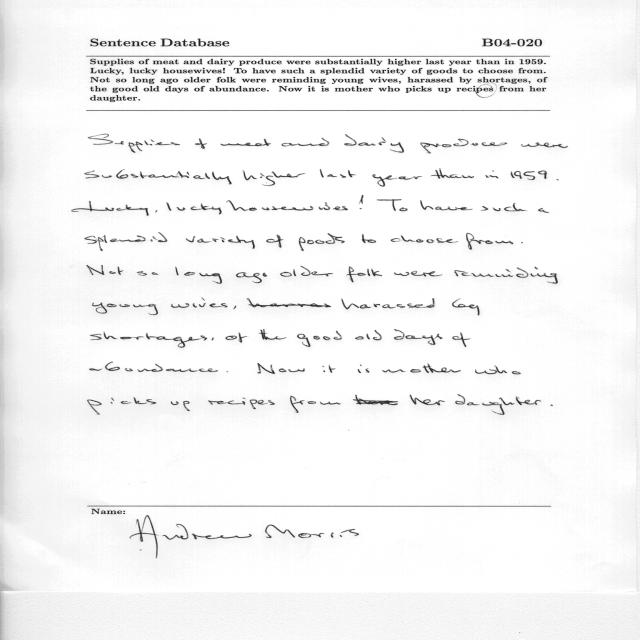word: (85, 170, 232, 185), (91, 332, 208, 348), (456, 394, 542, 415), (454, 267, 558, 284), (88, 134, 180, 153), (85, 233, 167, 251), (226, 200, 348, 211), (89, 362, 218, 372), (88, 397, 156, 415), (421, 139, 508, 153), (72, 201, 149, 216), (344, 134, 404, 153), (341, 299, 435, 310), (243, 170, 305, 186), (186, 236, 255, 249), (290, 396, 341, 413), (299, 233, 345, 251), (466, 233, 513, 250), (175, 267, 222, 284), (92, 303, 158, 315), (382, 363, 461, 373), (394, 329, 442, 345), (247, 298, 331, 307), (208, 398, 275, 409), (297, 331, 342, 347), (166, 203, 222, 215), (373, 174, 422, 187), (280, 266, 333, 277), (347, 267, 382, 283), (171, 298, 227, 308), (257, 363, 305, 374), (420, 201, 472, 211), (452, 299, 480, 316), (391, 236, 458, 243), (353, 395, 398, 405), (431, 169, 474, 179), (475, 366, 521, 375), (410, 395, 445, 406), (282, 138, 330, 146), (377, 199, 408, 211), (481, 203, 526, 211), (87, 265, 123, 275), (221, 139, 271, 146), (236, 272, 267, 283), (320, 169, 356, 178), (511, 171, 547, 180), (259, 329, 286, 340), (452, 332, 471, 347), (521, 142, 568, 148), (355, 330, 382, 340), (394, 271, 443, 276), (266, 235, 283, 248), (225, 333, 247, 343), (171, 401, 190, 411), (195, 138, 207, 149), (362, 234, 376, 243), (137, 271, 158, 276), (486, 171, 499, 179), (323, 365, 336, 373), (358, 365, 370, 373), (360, 195, 364, 209), (538, 208, 549, 213), (234, 306, 237, 310), (211, 338, 214, 341), (156, 210, 158, 213), (557, 179, 559, 180), (521, 242, 523, 243), (227, 371, 229, 372), (551, 405, 553, 406)
